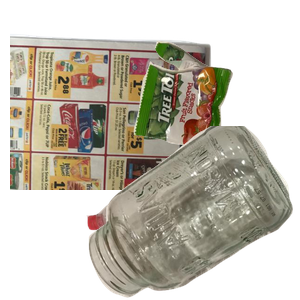glass: (86, 126, 300, 300)
paper: (10, 31, 214, 211)
plastic: (84, 191, 242, 300)
trash: (131, 38, 300, 182)
